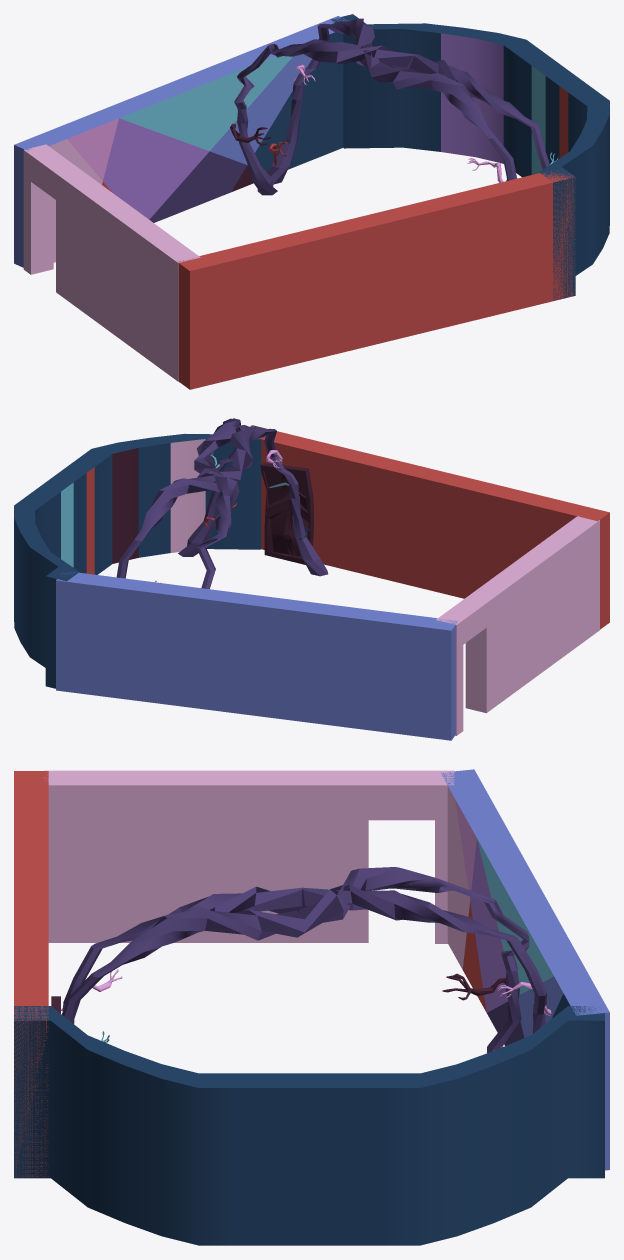
File: roomFinal.fbx
The picture shows the model from 3 angles, top to bottom: view 1: azimuth 30°, elevation 25°; view 2: azimuth 150°, elevation 25°; view 3: azimuth 270°, elevation 25°; orthographic projection. The views are drawn at different scales.
Parts seen in each view (by area): view 1: polySurface61; view 2: polySurface61; view 3: polySurface61.
Boxes of the visible parts, box(x1,y1,x2,y2) form: polySurface61: box(14, 14, 609, 389); polySurface61: box(14, 418, 609, 740); polySurface61: box(14, 769, 609, 1245).
Size of the model in its own units: 217 by 78.2 by 171.
